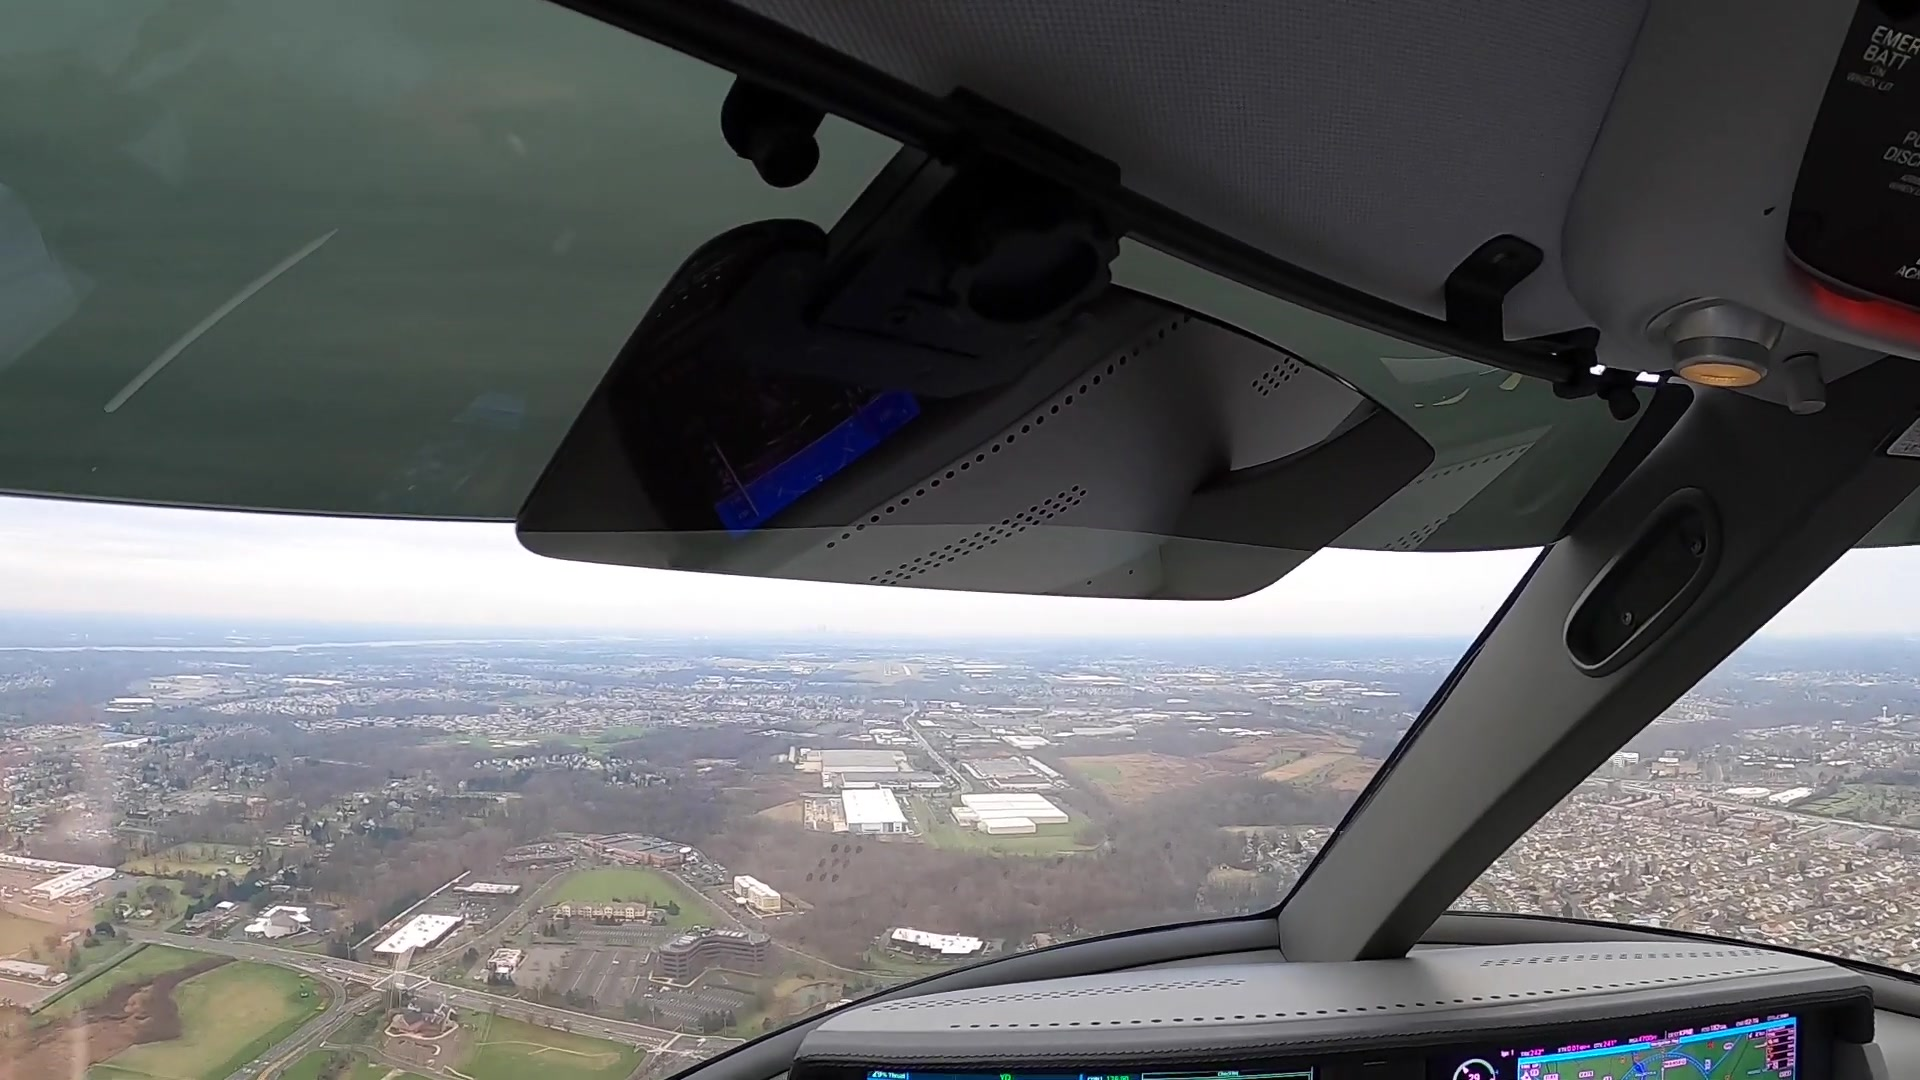runway: (880, 662, 893, 678)
